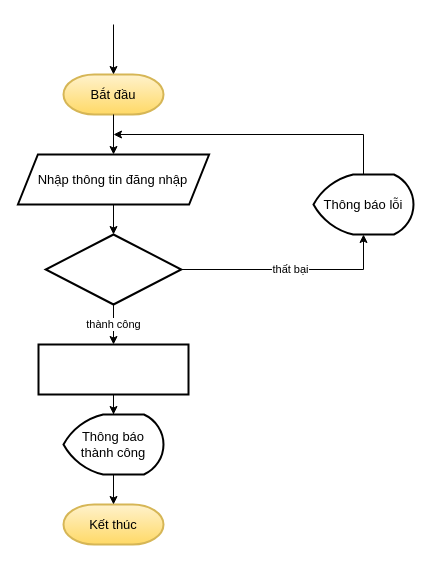
Image size: 432x563. Some labels were removed from this diagram. The centre of each missing label's shape, as x and y in pixels:
"Kiểm tra đăng nhập" belongs at point (113, 269).
"Trả về thông tin tài khoản" belongs at point (113, 369).
